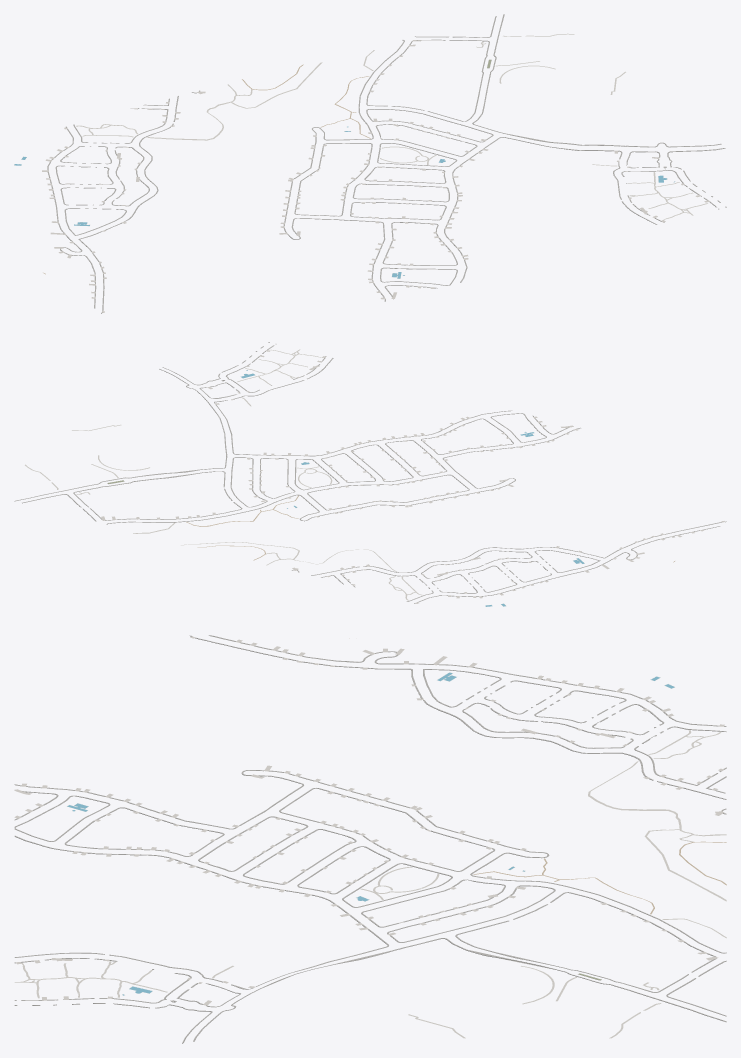
Rendered from ground_r4_c3.glb.
The picture shows the model from 3 angles, top to bottom: view 1: azimuth 30°, elevation 25°; view 2: azimuth 150°, elevation 25°; view 3: azimuth 270°, elevation 25°; orthographic projection. The views are drawn at different scales.
Parts seen in each view (by area): view 1: sidewalks, driveways, paths; view 2: sidewalks, driveways, paths; view 3: sidewalks, driveways, paths.
Boxes of the visible parts, bbox=[...] form: sidewalks: bbox=[47, 14, 726, 313]; driveways: bbox=[42, 40, 709, 312]; paths: bbox=[43, 33, 707, 274]; sidewalks: bbox=[14, 342, 726, 603]; driveways: bbox=[101, 350, 724, 603]; paths: bbox=[25, 349, 674, 600]; sidewalks: bbox=[14, 635, 726, 1043]; driveways: bbox=[14, 636, 724, 1005]; paths: bbox=[14, 638, 726, 1038].
Bounding box in the file's own units: 1125 × 36.8 × 788.
